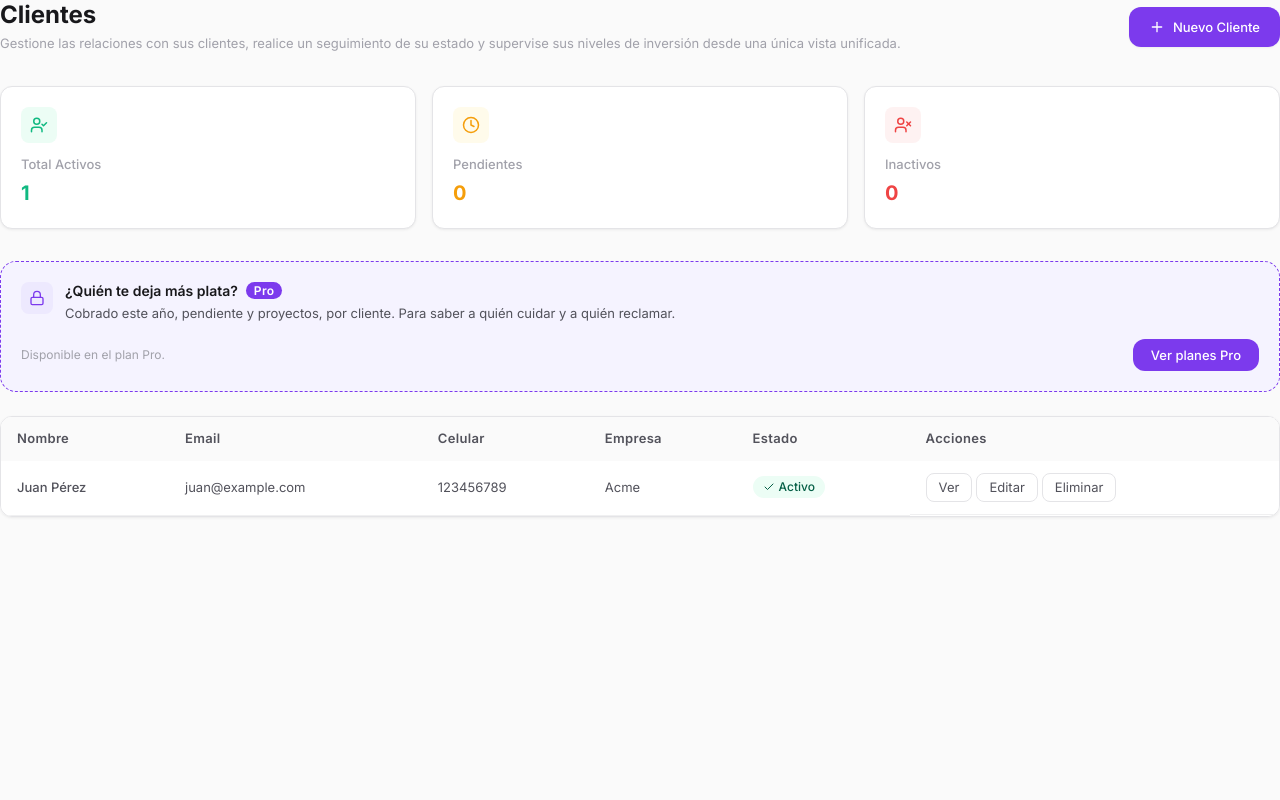
Test: ClientsPage — blocked delete when the client has proyectos asociados › reflects a different project count (triangulation: different count, not hardcoded)
Click the button "Eliminar" at x=1079, y=487, box [1042,472,1116,502]
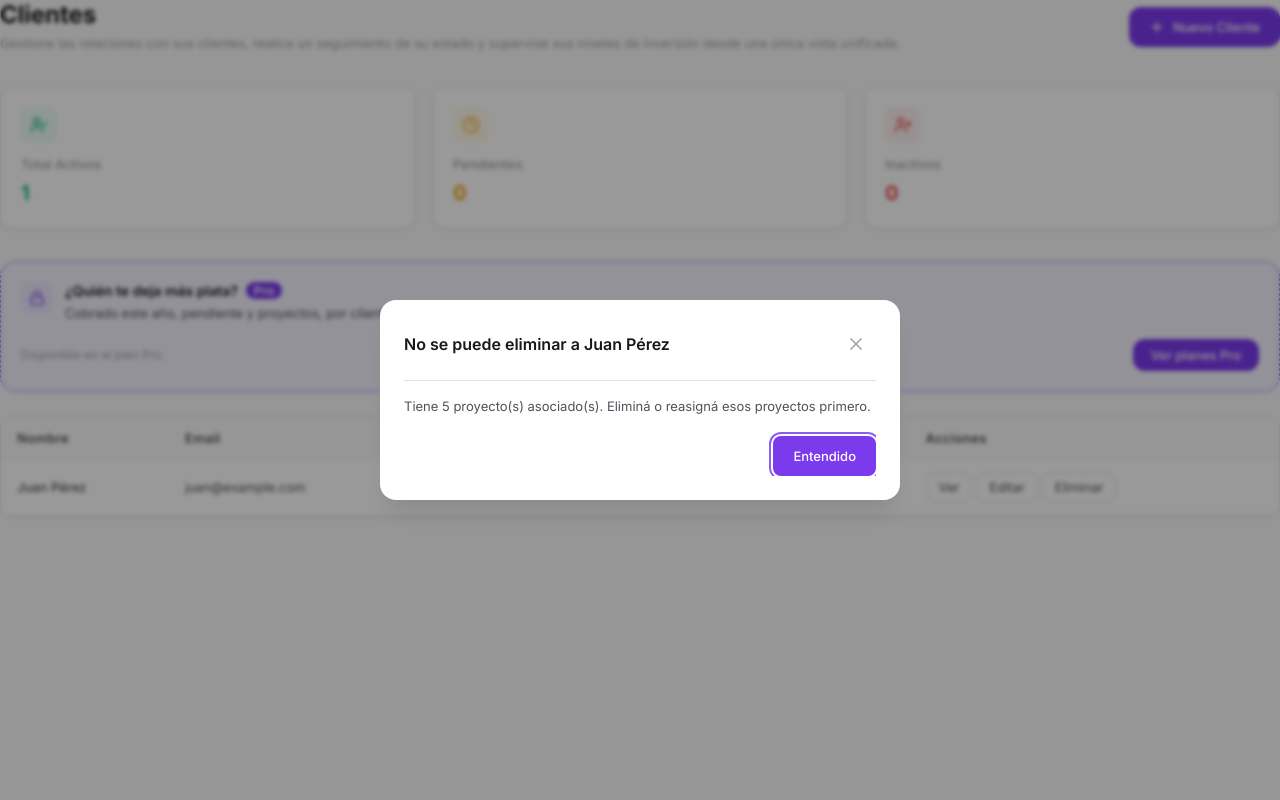
Now the text "Tiene 5 proyecto(s) asociado(s). Eliminá o reasigná esos proyectos primero." is shown, box [404,397,876,416]
